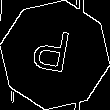P_S: (32, 27, 78, 83)
